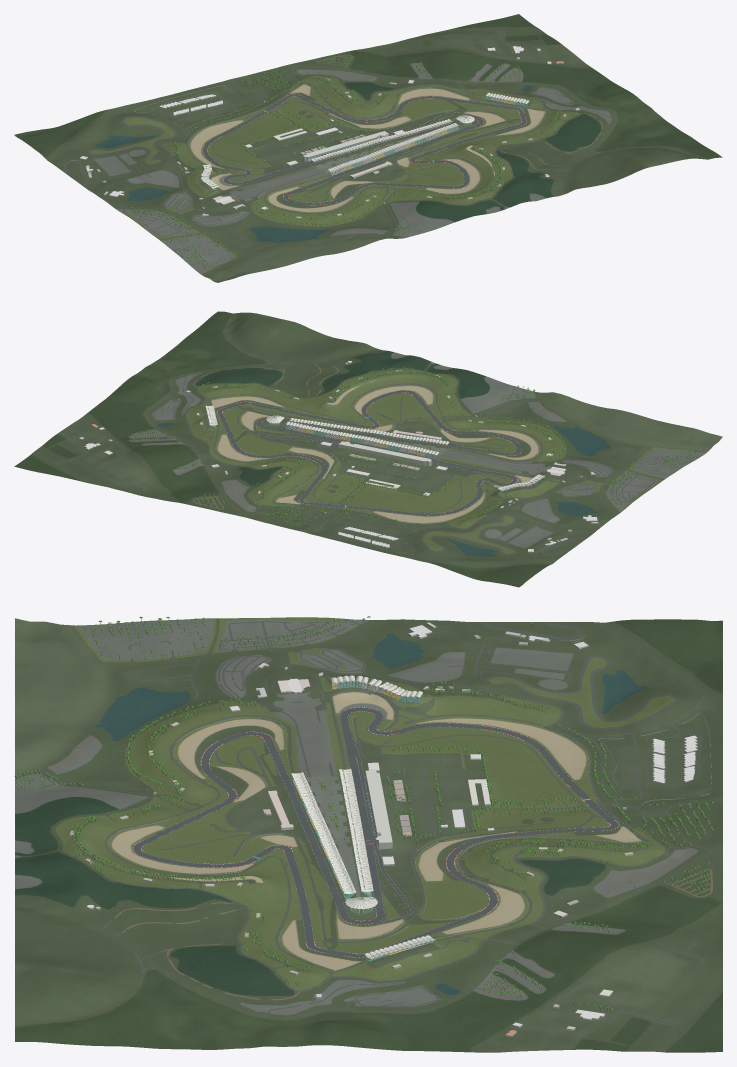
The model's file is sepang.glb.
3 views of the same model, one above another, from view 1: azimuth 30°, elevation 25°; view 2: azimuth 150°, elevation 25°; view 3: azimuth 270°, elevation 25° (orthographic). The views are drawn at different scales.
Parts seen in each view (by area): view 1: Sepang_Copernicus_Terrain, Sepang_Mapped_Service_Roads, Sepang_Mapped_Palms, Sepang_Grand_Prix_16m, Sepang_Current_Footprint_Buildings_33_Garages, Sepang_Main_K1_F_Grandstands, Sepang_Mapped_Barriers; view 2: Sepang_Copernicus_Terrain, Sepang_Mapped_Service_Roads, Sepang_Mapped_Palms, Sepang_Grand_Prix_16m, Sepang_Current_Footprint_Buildings_33_Garages, Sepang_Main_K1_F_Grandstands, Sepang_Mapped_Barriers; view 3: Sepang_Copernicus_Terrain, Sepang_Mapped_Service_Roads, Sepang_Grand_Prix_16m, Sepang_Mapped_Palms, Sepang_Current_Footprint_Buildings_33_Garages, Sepang_Main_K1_F_Grandstands, Sepang_Mapped_Barriers, Sepang_Pit_Lane, Sepang_Red_White_Kerbs.
Boxes of the visible parts, <box> form: Sepang_Copernicus_Terrain: <box>14,14,722,282</box>; Sepang_Mapped_Service_Roads: <box>92,30,615,255</box>; Sepang_Mapped_Palms: <box>74,43,577,268</box>; Sepang_Grand_Prix_16m: <box>202,94,526,204</box>; Sepang_Current_Footprint_Buildings_33_Garages: <box>79,46,579,218</box>; Sepang_Main_K1_F_Grandstands: <box>201,92,528,190</box>; Sepang_Mapped_Barriers: <box>70,83,545,212</box>; Sepang_Copernicus_Terrain: <box>14,311,722,587</box>; Sepang_Mapped_Service_Roads: <box>56,359,663,559</box>; Sepang_Mapped_Palms: <box>88,367,697,544</box>; Sepang_Grand_Prix_16m: <box>217,390,521,515</box>; Sepang_Current_Footprint_Buildings_33_Garages: <box>78,361,598,552</box>; Sepang_Main_K1_F_Grandstands: <box>205,405,545,492</box>; Sepang_Mapped_Barriers: <box>211,384,549,554</box>; Sepang_Copernicus_Terrain: <box>15,617,722,1052</box>; Sepang_Mapped_Service_Roads: <box>29,620,716,1026</box>; Sepang_Grand_Prix_16m: <box>133,707,618,957</box>; Sepang_Mapped_Palms: <box>14,616,714,1010</box>; Sepang_Current_Footprint_Buildings_33_Garages: <box>69,622,697,1037</box>; Sepang_Main_K1_F_Grandstands: <box>291,675,435,963</box>; Sepang_Mapped_Barriers: <box>109,635,711,970</box>; Sepang_Pit_Lane: <box>351,736,414,924</box>; Sepang_Red_White_Kerbs: <box>132,707,619,957</box>.
Size of the model in its own units: 2003 by 60.31 by 1402.
13 materials, 1 textured.
